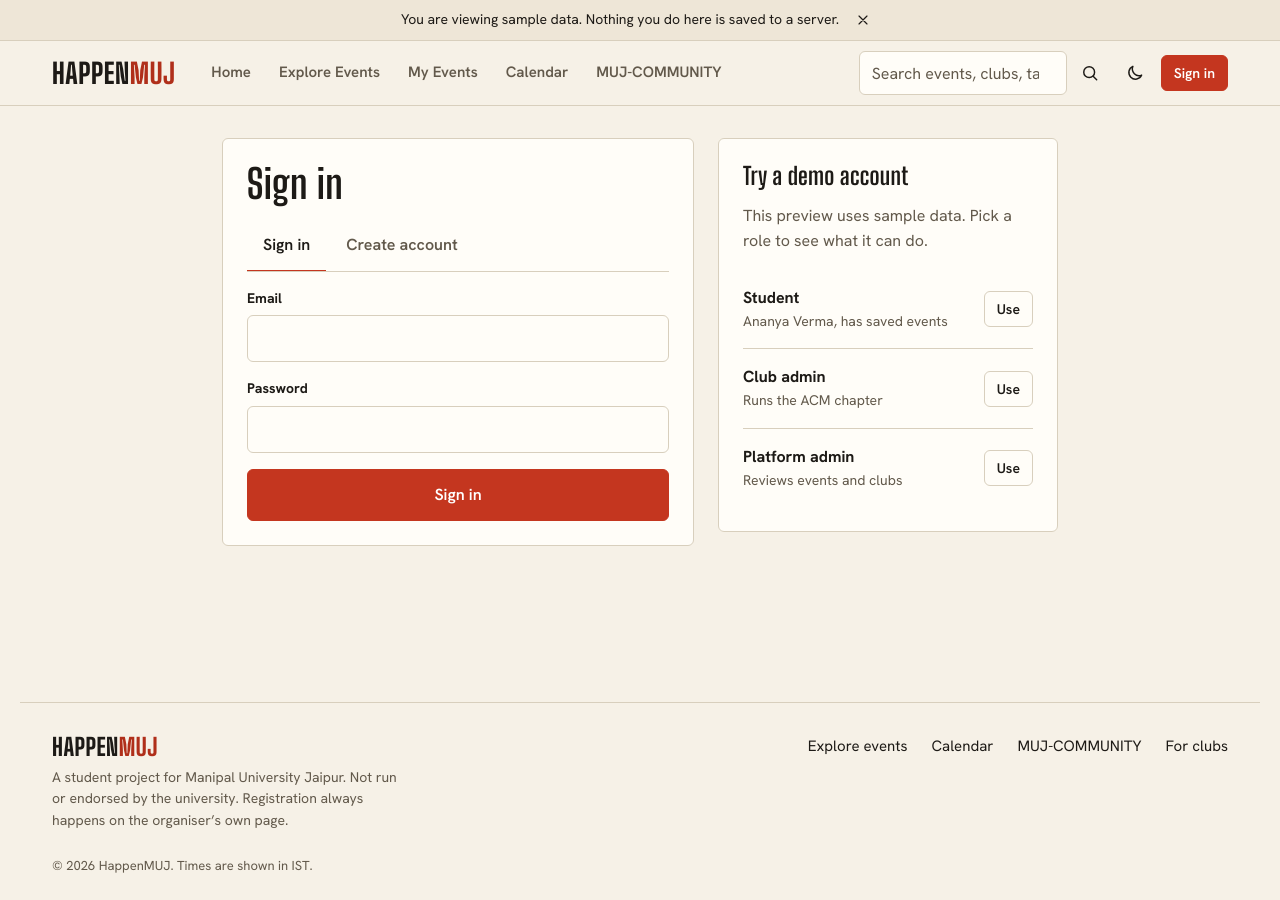
it: sign-up form (sample-data mode) › asks for a name, a PERSONAL email and a password, and does not ask for a registration number
Click the tab "Create account".
click(402, 246)  # box [330,221,474,272]
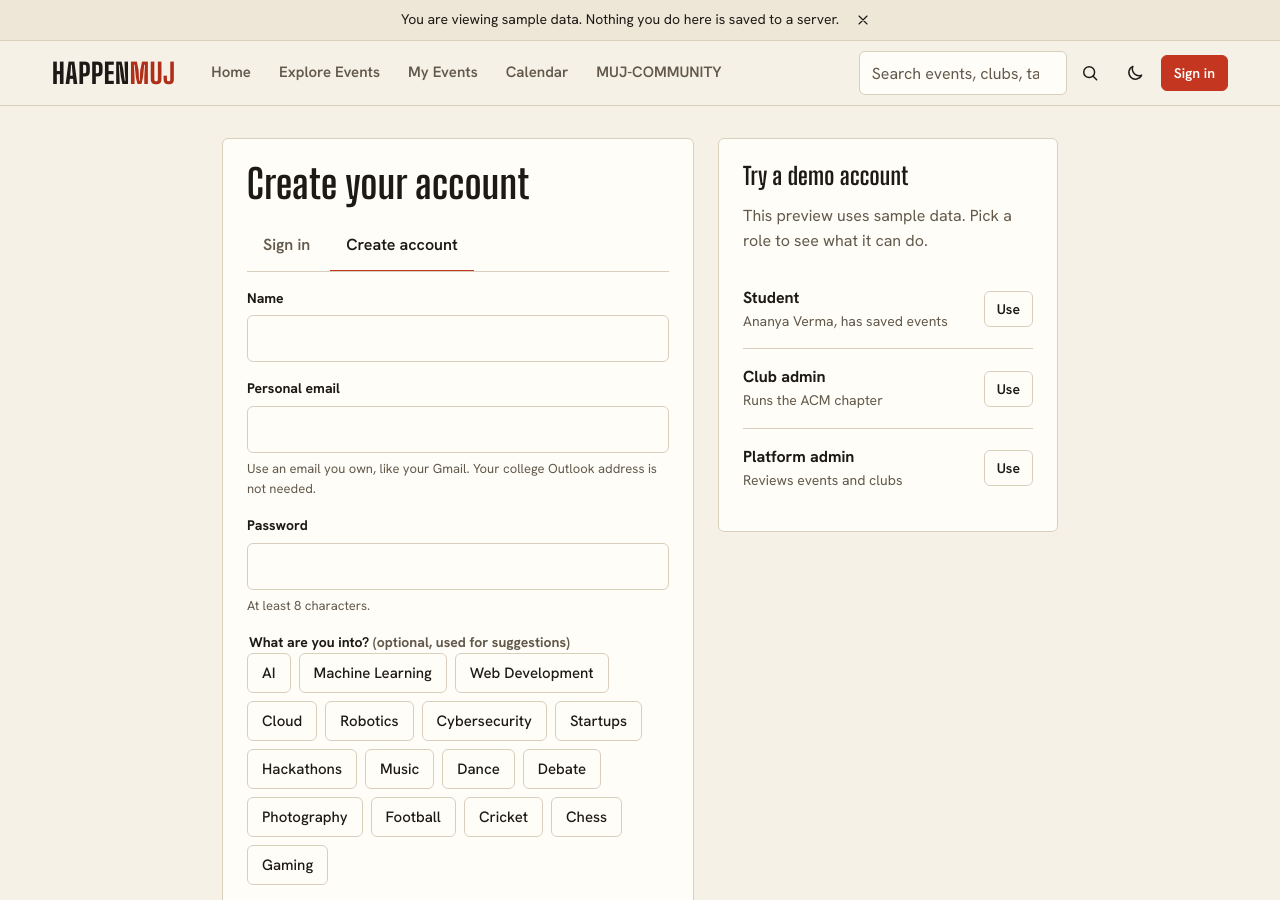
Check: the field labelled "Name" is shown, box [247,316,669,362]
Check: the text "college Outlook address is not needed" is shown, box [247,460,657,497]
